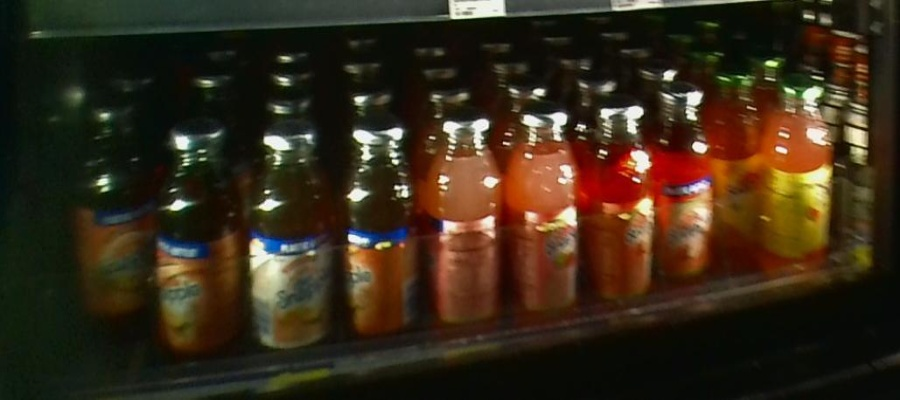bottle: (151, 111, 242, 372), (249, 123, 333, 364), (422, 114, 508, 347), (338, 122, 415, 374), (509, 111, 588, 338), (75, 93, 148, 332), (587, 95, 655, 305), (768, 61, 833, 262), (656, 77, 714, 289), (714, 59, 764, 276)
